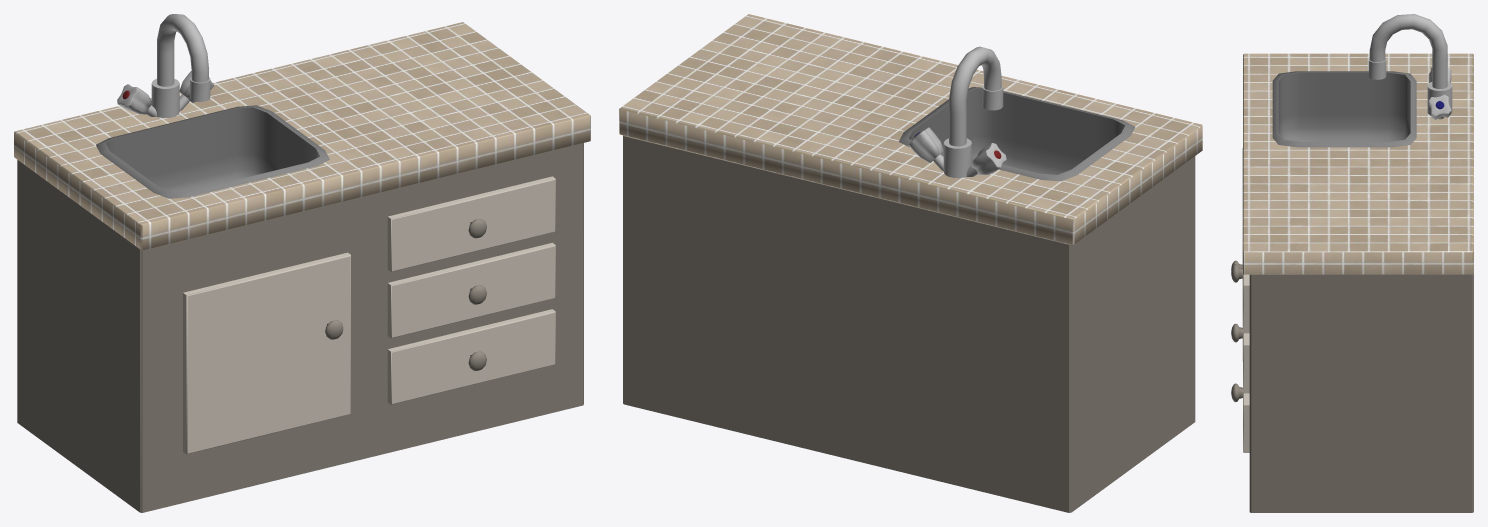
Rendered from spuelblock.fbx.
3 renders of one model, left to right at view 1: azimuth 30°, elevation 25°; view 2: azimuth 150°, elevation 25°; view 3: azimuth 270°, elevation 25°, orthographic. The views are drawn at different scales.
Parts seen in each view (by area): view 1: Würfel_3_8, Würfel_4, Würfel_3, spuele, Würfel_3_4, Würfel_3_6, Würfel_3_2, Zylinder_1, Zylinder_2, Zylinder_4; view 2: Würfel_3_8, Würfel_4, spuele, Zylinder_1, Zylinder_2, Zylinder_3, Zylinder_4; view 3: Würfel_3_8, Würfel_4, spuele, Zylinder_1, Zylinder_3, Würfel_3_4, Würfel_3_6, Würfel_3_2, Zylinder_2.
Boxes of the visible parts, x1,y1,x2,y2 form: Würfel_3_8: [17, 143, 583, 512]; Würfel_4: [14, 22, 590, 250]; Würfel_3: [183, 252, 350, 454]; spuele: [96, 105, 329, 198]; Würfel_3_4: [387, 242, 555, 338]; Würfel_3_6: [387, 309, 555, 404]; Würfel_3_2: [387, 176, 555, 271]; Zylinder_1: [157, 14, 210, 101]; Zylinder_2: [151, 78, 179, 117]; Zylinder_4: [117, 84, 152, 114]; Würfel_3_8: [623, 135, 1195, 512]; Würfel_4: [619, 14, 1202, 244]; spuele: [899, 87, 1135, 181]; Zylinder_1: [949, 46, 1003, 146]; Zylinder_2: [943, 138, 971, 178]; Zylinder_3: [908, 127, 943, 162]; Zylinder_4: [971, 143, 1006, 175]; Würfel_3_8: [1249, 274, 1473, 512]; Würfel_4: [1243, 53, 1473, 274]; spuele: [1272, 71, 1416, 147]; Zylinder_1: [1368, 14, 1447, 88]; Zylinder_3: [1428, 94, 1451, 119]; Würfel_3_4: [1243, 333, 1249, 393]; Würfel_3_6: [1243, 392, 1249, 452]; Würfel_3_2: [1243, 274, 1249, 333]; Zylinder_2: [1427, 82, 1452, 115].
Size of the model in its own units: 355 by 301 by 184.
7 materials, 1 textured.
